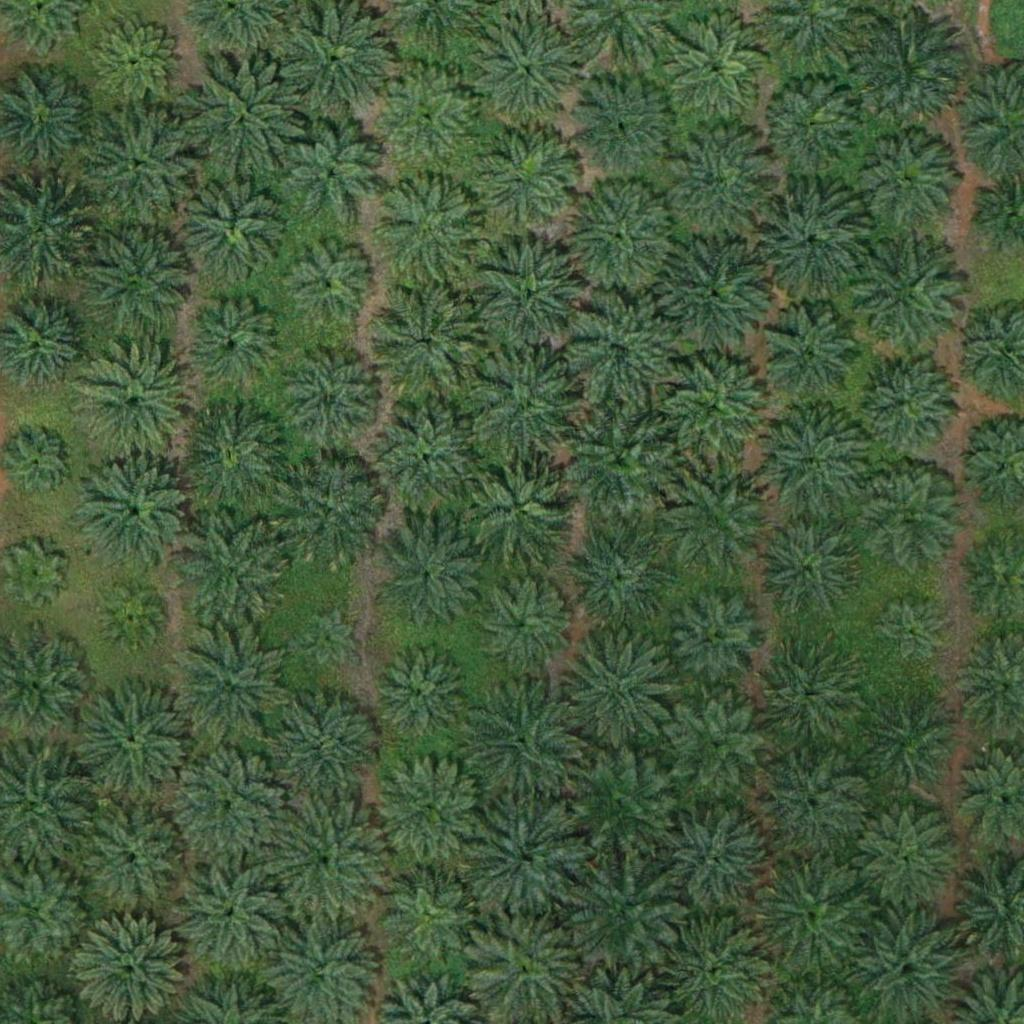Kelapa_Sawit: (561, 743, 674, 857), (467, 679, 580, 793), (373, 523, 486, 637), (568, 853, 681, 967), (77, 348, 190, 461), (278, 4, 391, 117), (374, 176, 487, 289), (366, 285, 479, 398), (563, 69, 676, 182), (666, 123, 779, 236), (658, 233, 771, 346), (759, 408, 872, 521), (660, 354, 773, 467), (471, 353, 584, 466), (462, 452, 575, 565), (467, 801, 580, 914), (371, 404, 484, 517), (170, 625, 283, 738), (174, 748, 287, 861), (79, 459, 192, 572), (76, 685, 189, 798), (169, 860, 282, 973), (757, 852, 870, 965), (85, 109, 197, 223), (82, 221, 194, 335), (179, 289, 291, 403), (853, 8, 965, 122), (850, 123, 962, 237), (656, 804, 768, 918), (273, 458, 385, 572), (176, 401, 288, 515), (186, 59, 298, 172), (180, 172, 292, 285), (469, 16, 581, 129), (474, 240, 586, 353), (562, 183, 674, 296), (563, 295, 675, 408), (754, 176, 866, 289), (852, 241, 964, 354), (755, 749, 867, 862), (662, 465, 774, 578), (565, 405, 677, 518), (561, 517, 673, 630), (563, 629, 675, 742), (374, 756, 486, 869), (268, 690, 380, 803), (270, 803, 382, 916), (179, 514, 291, 627), (76, 804, 188, 917), (279, 121, 379, 222), (375, 67, 475, 168), (475, 127, 575, 228), (665, 14, 765, 115), (760, 305, 860, 406), (857, 353, 957, 454), (858, 465, 958, 566), (860, 691, 960, 792), (858, 807, 958, 908), (758, 514, 858, 615), (755, 647, 855, 748), (668, 591, 768, 692), (668, 694, 768, 795), (379, 861, 479, 962), (282, 350, 382, 450), (761, 71, 861, 171), (472, 573, 572, 673), (370, 642, 470, 742), (91, 18, 179, 106), (288, 240, 375, 328), (871, 597, 946, 672), (100, 586, 163, 649), (8, 432, 71, 495), (3, 543, 66, 606), (297, 606, 359, 669)
